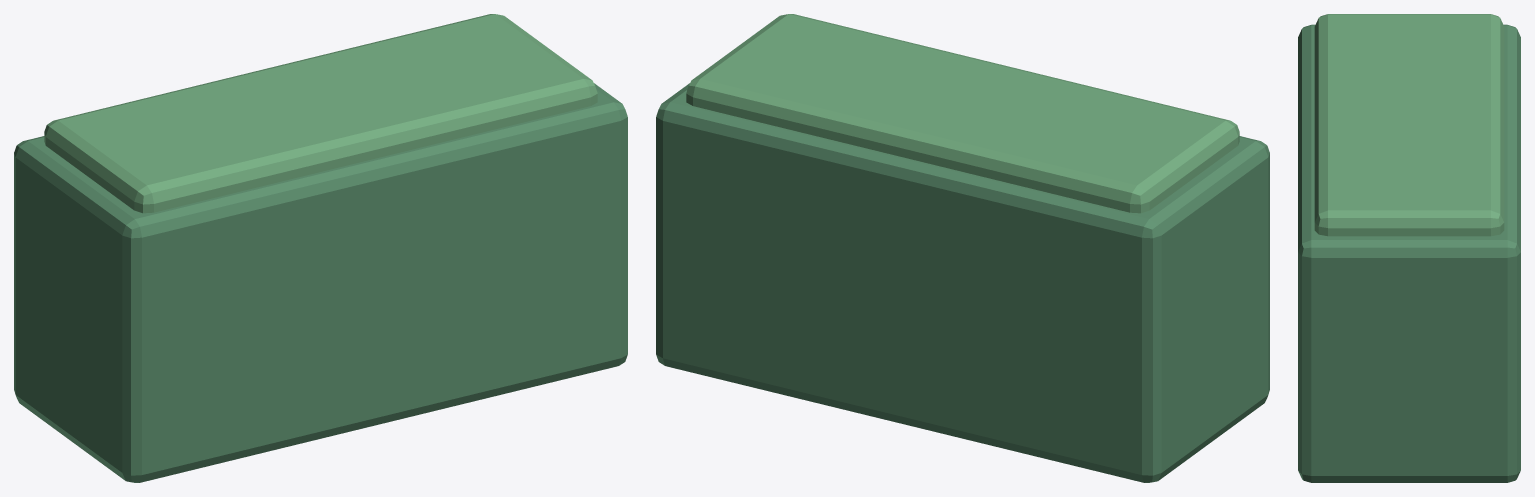
Rendered from SM_Warmerdamm_Hedge.fbx.
3 views of the same model, side by side, from view 1: azimuth 30°, elevation 25°; view 2: azimuth 150°, elevation 25°; view 3: azimuth 270°, elevation 25° (orthographic). The views are drawn at different scales.
Parts seen in each view (by area): view 1: SM_Warmerdamm_Hedge; view 2: SM_Warmerdamm_Hedge; view 3: SM_Warmerdamm_Hedge.
Boxes of the visible parts, x1=… form: SM_Warmerdamm_Hedge: x1=14, y1=14, x2=627, y2=482; SM_Warmerdamm_Hedge: x1=656, y1=14, x2=1269, y2=482; SM_Warmerdamm_Hedge: x1=1298, y1=14, x2=1520, y2=482.
Bounding box in the file's own units: 2.4 × 1.3 × 1.
